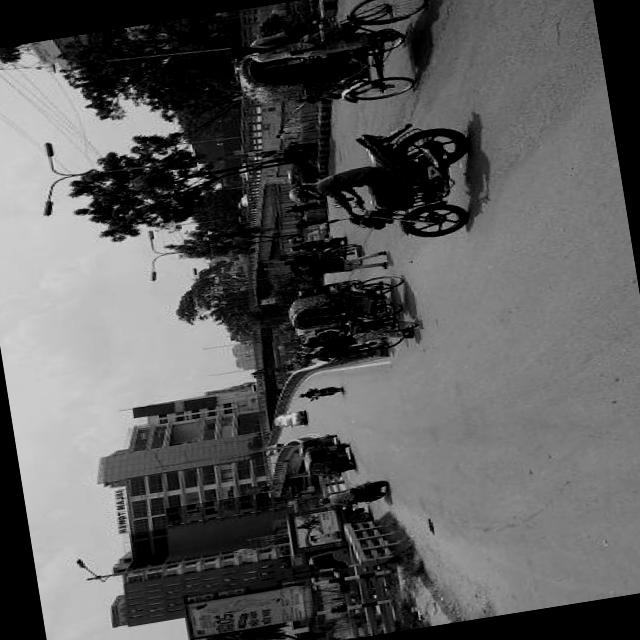motorcycle: (275, 110, 491, 258), (211, 0, 448, 123), (272, 267, 422, 352), (314, 472, 391, 512), (298, 438, 352, 478), (290, 378, 342, 402)
truck: (277, 498, 378, 603)
